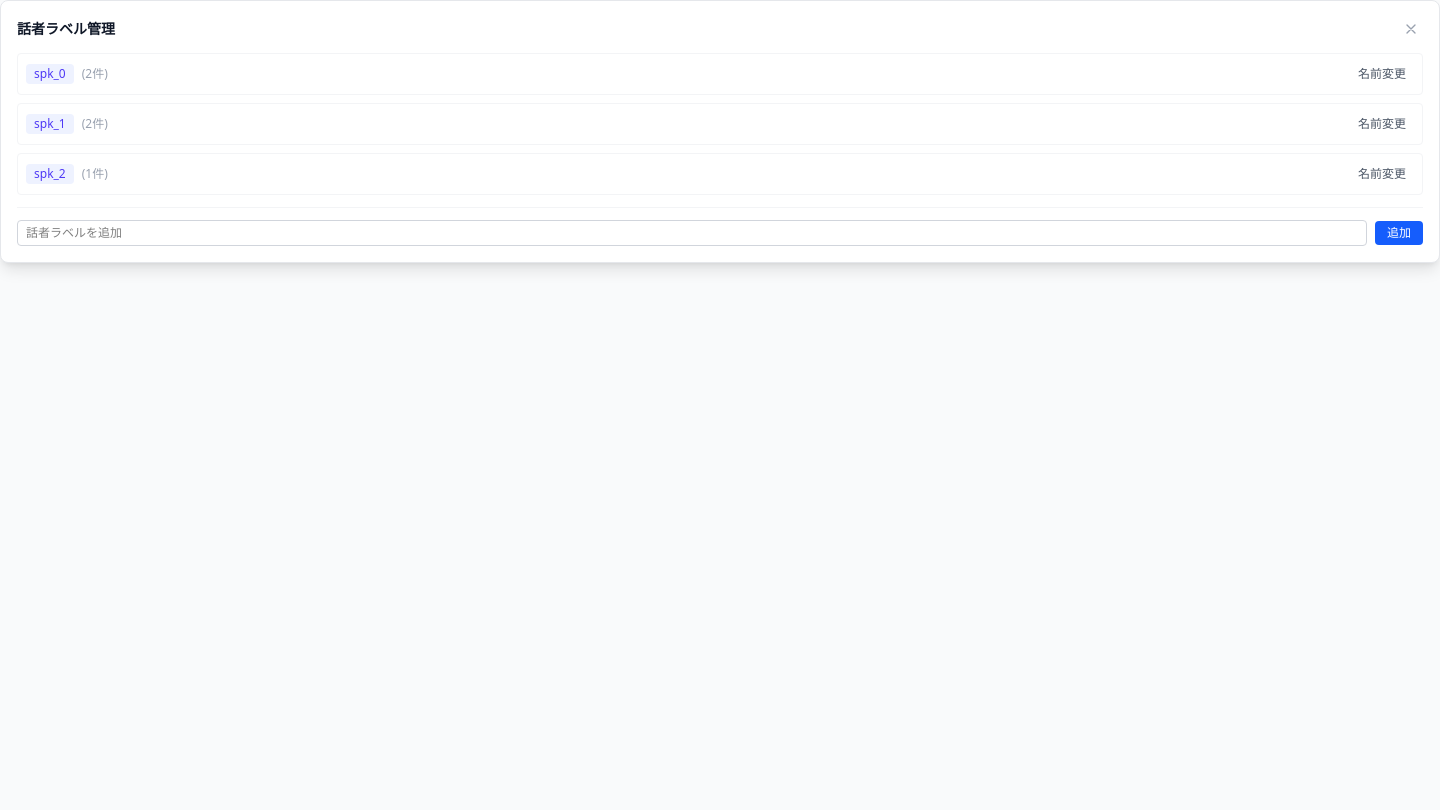
SpeakerLabelManager › 話者ラベルの追加 › shows a Japanese error when the label is empty
Click the button with aria-label "話者ラベルを追加" at (1399, 233), box 1375,221 -> 1423,245
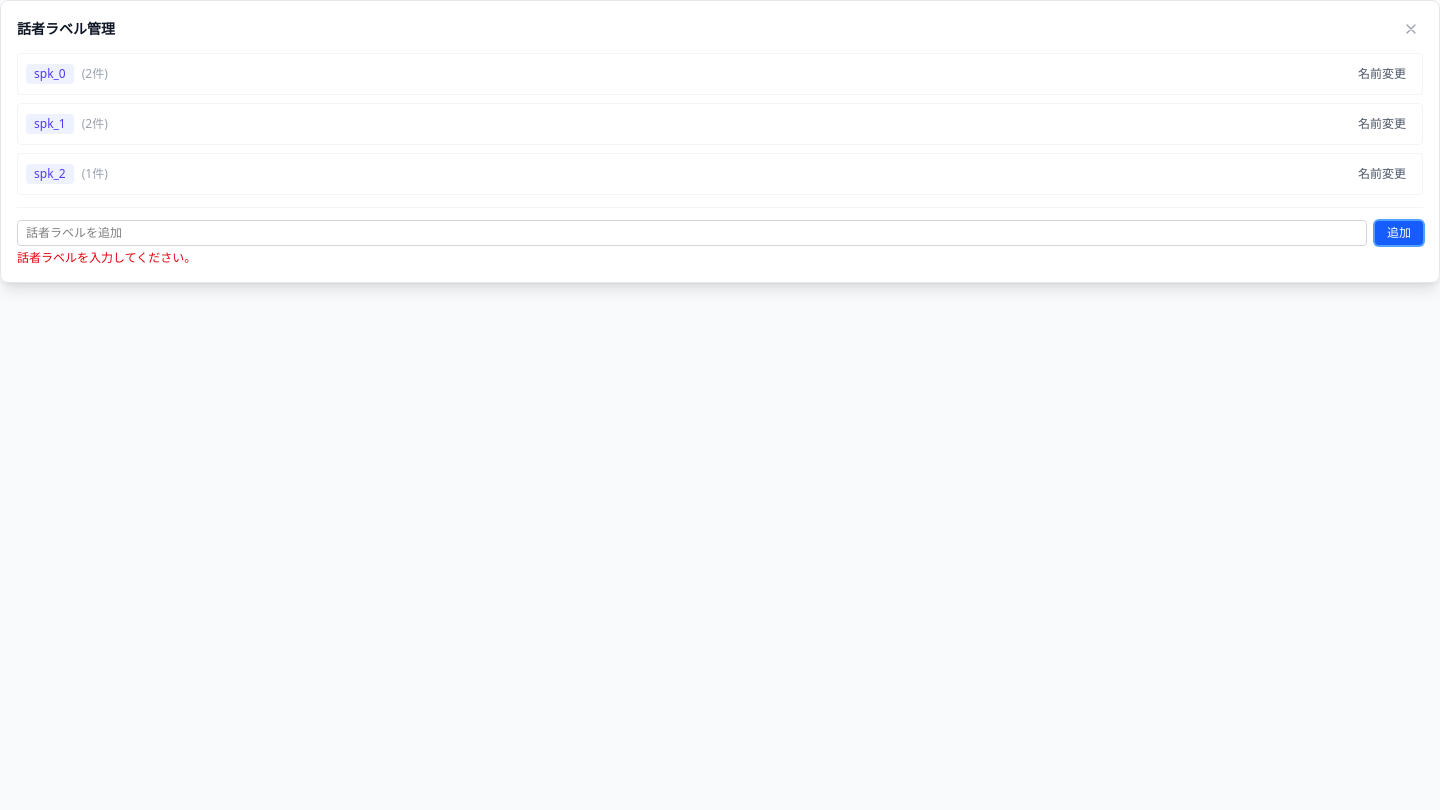
Result: the text "話者ラベルを入力してください。" is shown at 17,249 -> 196,266
